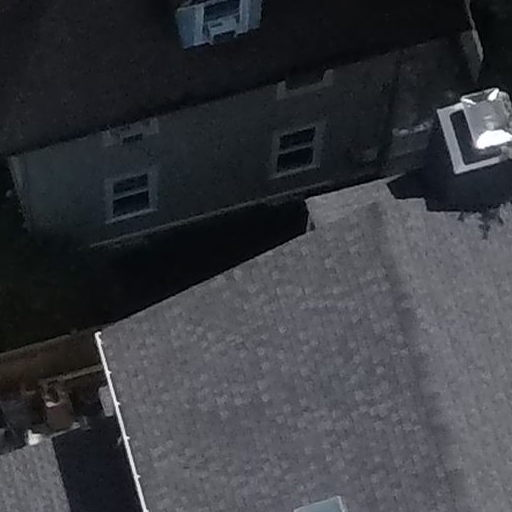container: (30, 376, 77, 429)
